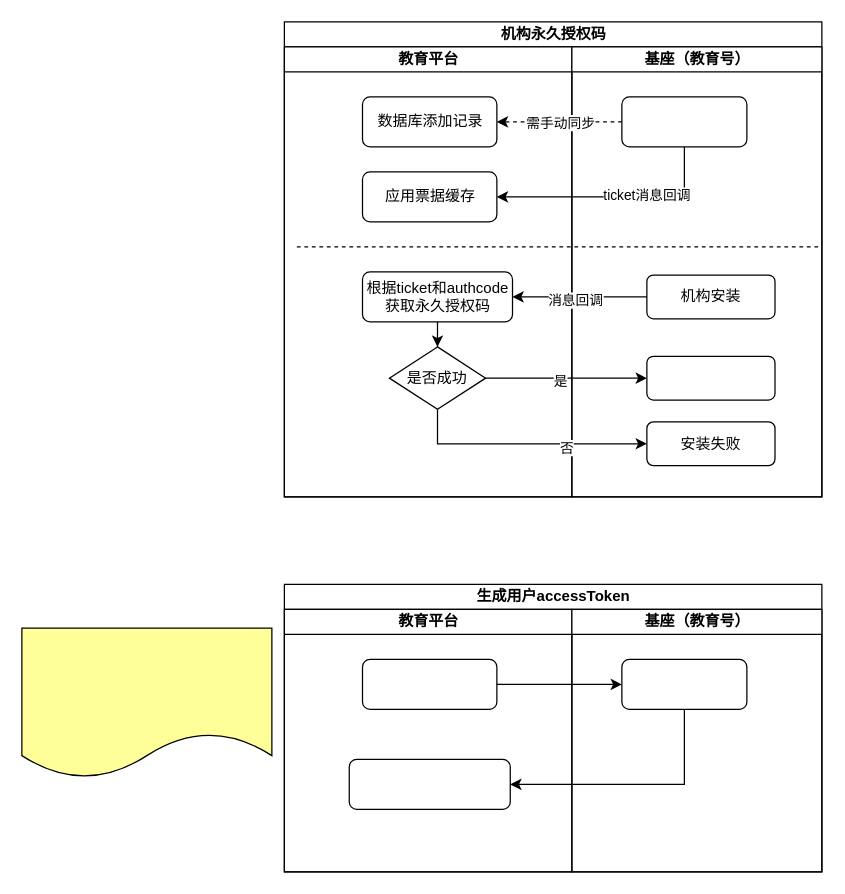
The diagram is 845 pixels wide and 894 high, and some of its shapes have lost their labels. Each missing label, with the centre of its shape:
"token缓存时长以refresh_token有效时长为准（15天），当access_token失效时，优先用refresh_token获取新的token。" goes at pixel 146 702.
"安装成功" goes at pixel 710 377.
"授权code" goes at pixel 684 683.
"教育号添加应用" goes at pixel 684 121.
"解析code，获取用户凭证，查询用户身份信息" goes at pixel 429 783.
"账号密码登录" goes at pixel 429 683.
